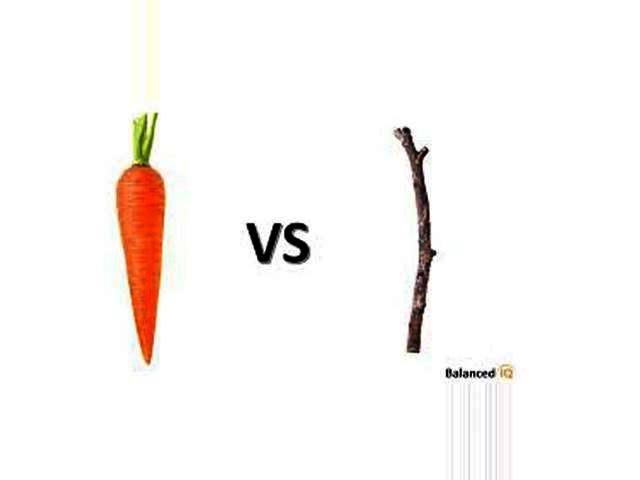carrot: (113, 154, 174, 371)
